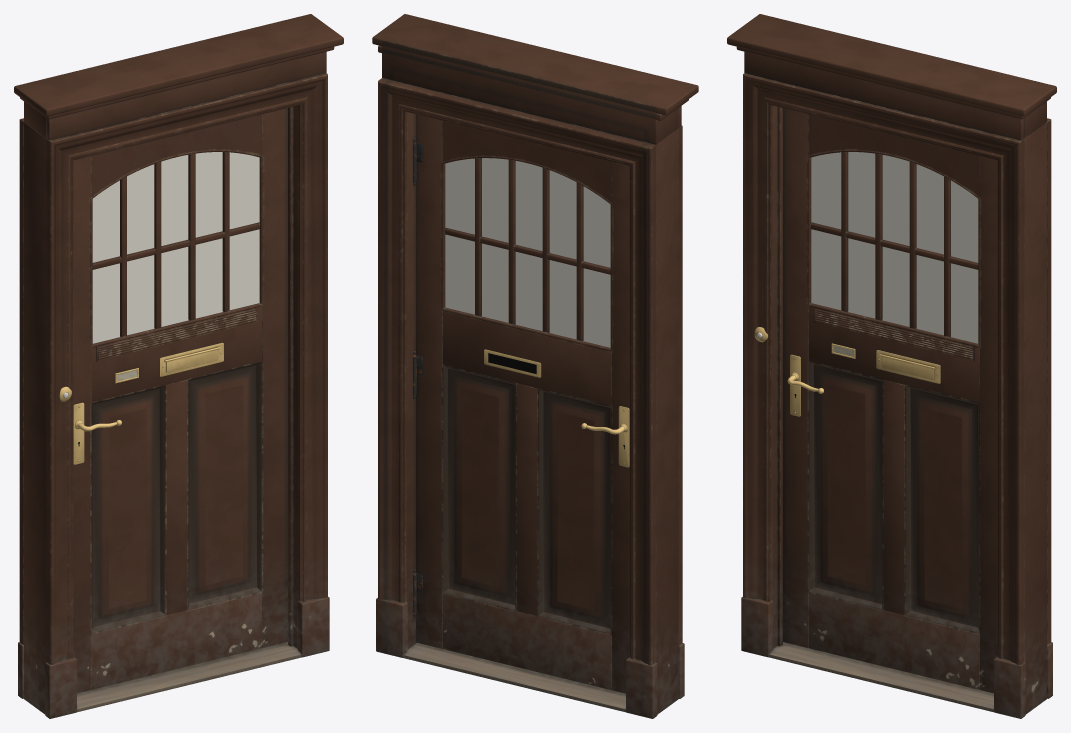
File: door_tenement_a.glb
3 views of the same model, side by side, from view 1: azimuth 30°, elevation 25°; view 2: azimuth 150°, elevation 25°; view 3: azimuth 330°, elevation 25° (orthographic).
Parts seen in each view (by area): view 1: leaf_wood, frame_wood, leaf_glass, letter_flap, plate_0, plate_2; view 2: leaf_wood, frame_wood, leaf_glass, plate_1, leaf_iron; view 3: leaf_wood, frame_wood, leaf_glass, letter_flap, plate_2, plate_0.
Part boxes in pixels (bbox=[...]): leaf_wood: bbox=[73, 108, 287, 693]; frame_wood: bbox=[14, 14, 343, 718]; leaf_glass: bbox=[92, 152, 259, 343]; letter_flap: bbox=[164, 347, 220, 372]; plate_0: bbox=[73, 402, 84, 464]; plate_2: bbox=[159, 342, 223, 376]; leaf_wood: bbox=[416, 114, 629, 693]; frame_wood: bbox=[372, 14, 698, 718]; leaf_glass: bbox=[445, 158, 610, 347]; plate_1: bbox=[618, 406, 629, 467]; leaf_iron: bbox=[413, 138, 422, 593]; leaf_wood: bbox=[783, 108, 997, 693]; frame_wood: bbox=[727, 14, 1056, 718]; leaf_glass: bbox=[811, 152, 978, 343]; letter_flap: bbox=[880, 354, 935, 379]; plate_2: bbox=[876, 350, 940, 383]; plate_0: bbox=[790, 354, 800, 416].
Bounding box in the file's own units: 1.22 × 2.41 × 0.2685.
4 materials, 3 textured.
